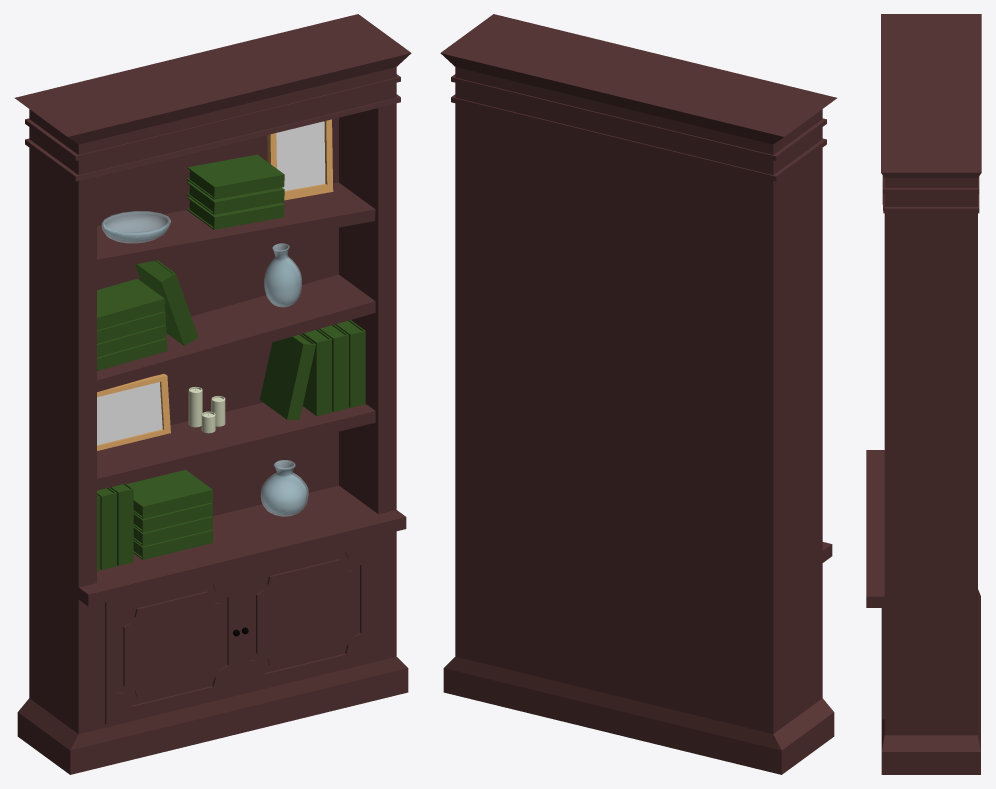
File: bookshelf.fbx
3 renders of one model, left to right at view 1: azimuth 30°, elevation 25°; view 2: azimuth 150°, elevation 25°; view 3: azimuth 270°, elevation 25°, orthographic. The views are drawn at different scales.
Visible parts, largest first — view 1: Cube.013, Cube.005, Cube.001, Cube.006, Cube.003, Cube.012, Cube.007, Cube.004, Cube.010, Cube.016, Cube.002, Cube.017 (+6 smaller); view 2: Cube.013; view 3: Cube.013.
Part boxes in pixels (bbox=[...]): Cube.013: bbox=[15, 14, 411, 774]; Cube.005: bbox=[97, 274, 375, 391]; Cube.001: bbox=[97, 402, 375, 490]; Cube.006: bbox=[97, 182, 375, 271]; Cube.003: bbox=[127, 470, 212, 559]; Cube.012: bbox=[186, 154, 284, 229]; Cube.007: bbox=[97, 278, 167, 370]; Cube.004: bbox=[302, 320, 365, 415]; Cube.010: bbox=[259, 334, 315, 419]; Cube.016: bbox=[97, 382, 162, 445]; Cube.002: bbox=[97, 483, 133, 571]; Cube.017: bbox=[276, 121, 325, 190]; Cube.013: bbox=[440, 14, 836, 774]; Cube.013: bbox=[866, 14, 981, 774].
Size of the model in its own units: 113 by 200 by 34.7.
